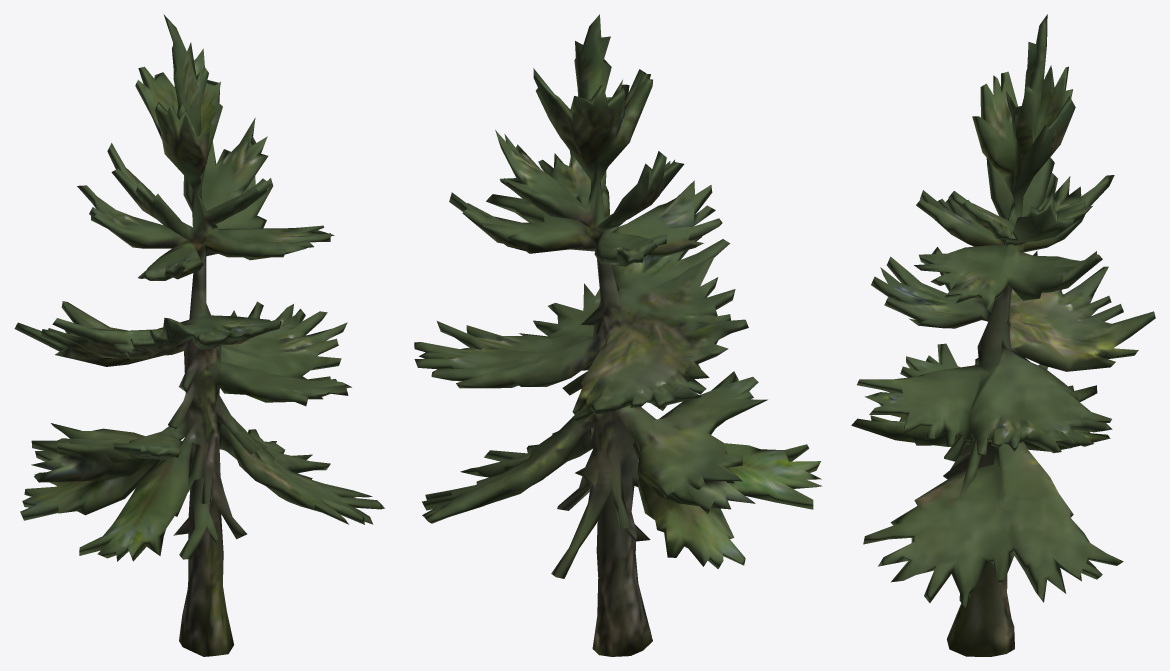
File: Arbol_2.glb
3 renders of one model, left to right at view 1: azimuth 30°, elevation 25°; view 2: azimuth 150°, elevation 25°; view 3: azimuth 270°, elevation 25°, orthographic. The views are drawn at different scales.
Visible parts, largest first — view 1: Arbol 2; view 2: Arbol 2; view 3: Arbol 2.
Part boxes in pixels (bbox=[...]): Arbol 2: bbox=[14, 14, 384, 656]; Arbol 2: bbox=[414, 14, 822, 656]; Arbol 2: bbox=[851, 14, 1155, 656].
Size of the model in its own units: 0.1255 by 0.2354 by 0.1037.
Materials: 1 (1 with a texture image).
